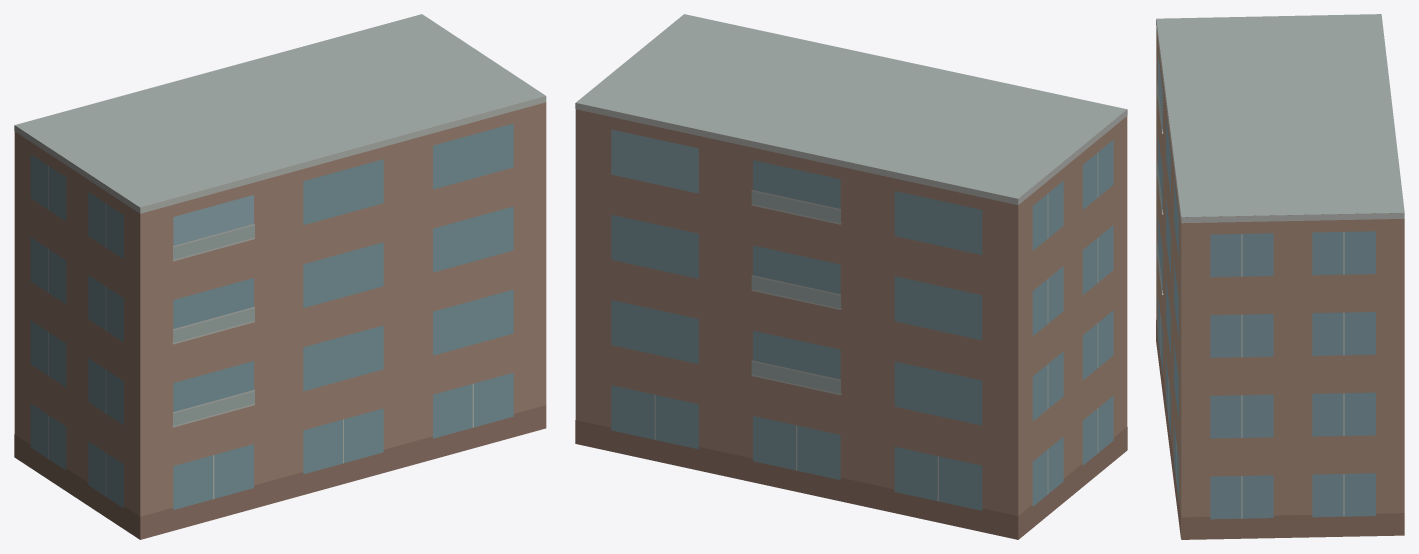
The model's file is survey-upis-32551979.glb.
3 views of the same model, side by side, from view 1: azimuth 30°, elevation 25°; view 2: azimuth 150°, elevation 25°; view 3: azimuth 270°, elevation 25° (orthographic). The views are drawn at different scales.
Visible parts, largest first — view 1: survey-upis-32551979.tmp; view 2: survey-upis-32551979.tmp; view 3: survey-upis-32551979.tmp.
Part boxes in pixels (x1,y1,x2,y2): survey-upis-32551979.tmp: [14, 14, 546, 539]; survey-upis-32551979.tmp: [575, 14, 1127, 539]; survey-upis-32551979.tmp: [1156, 14, 1404, 539].
Size of the model in its own units: 17.7 by 13.1 by 9.16.
